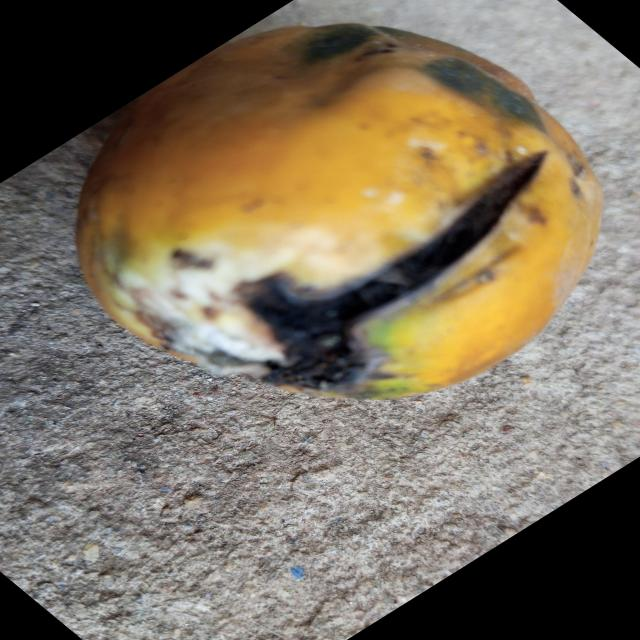damaged: (74, 22, 604, 400)
